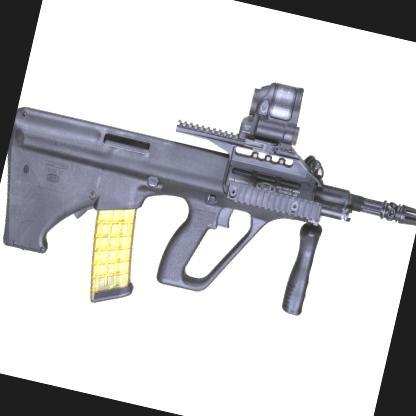rifle: (0, 21, 416, 377)
